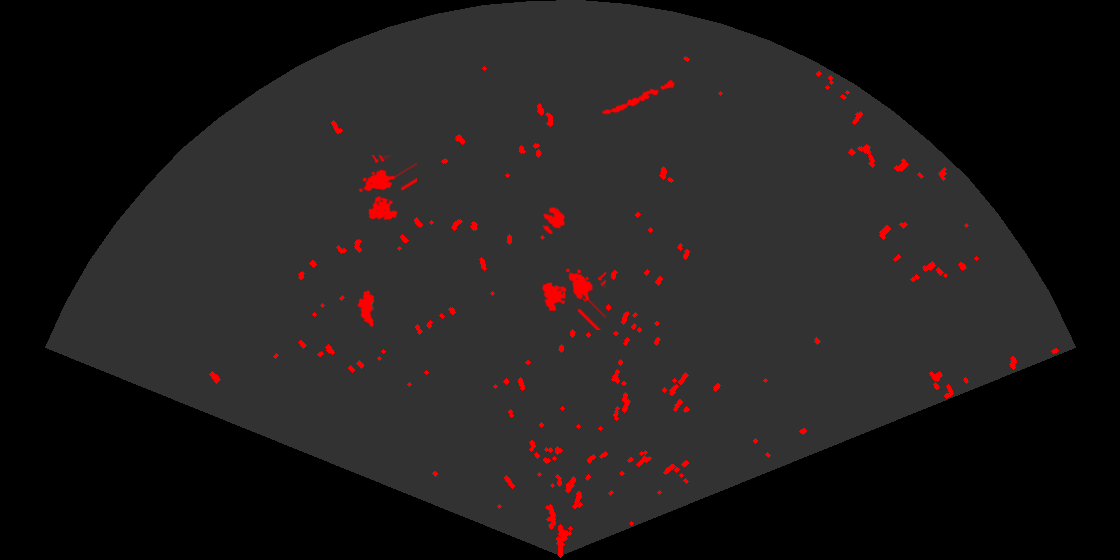AUV: (356, 288, 376, 329)
ball: (542, 206, 567, 236)
cage: (540, 267, 606, 330), (357, 155, 417, 222)
chain: (600, 77, 683, 116)
